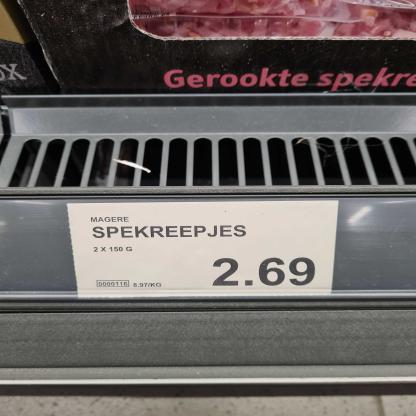prtg: (68, 202, 340, 298)
